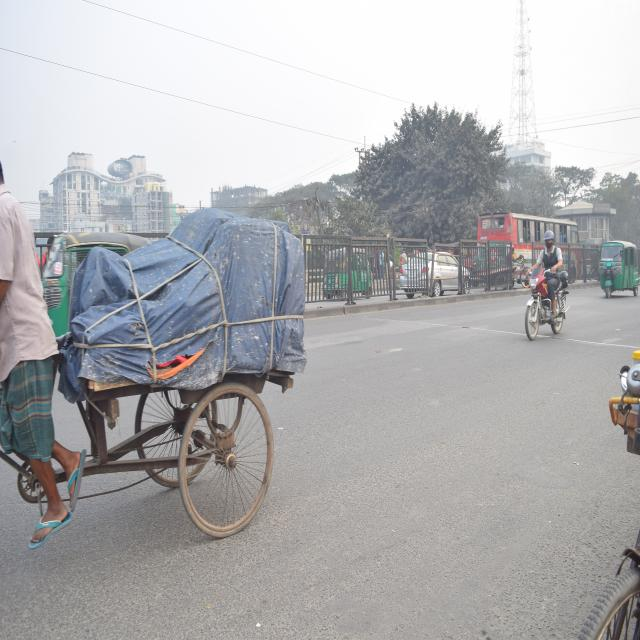motorbike: (510, 245, 571, 350)
